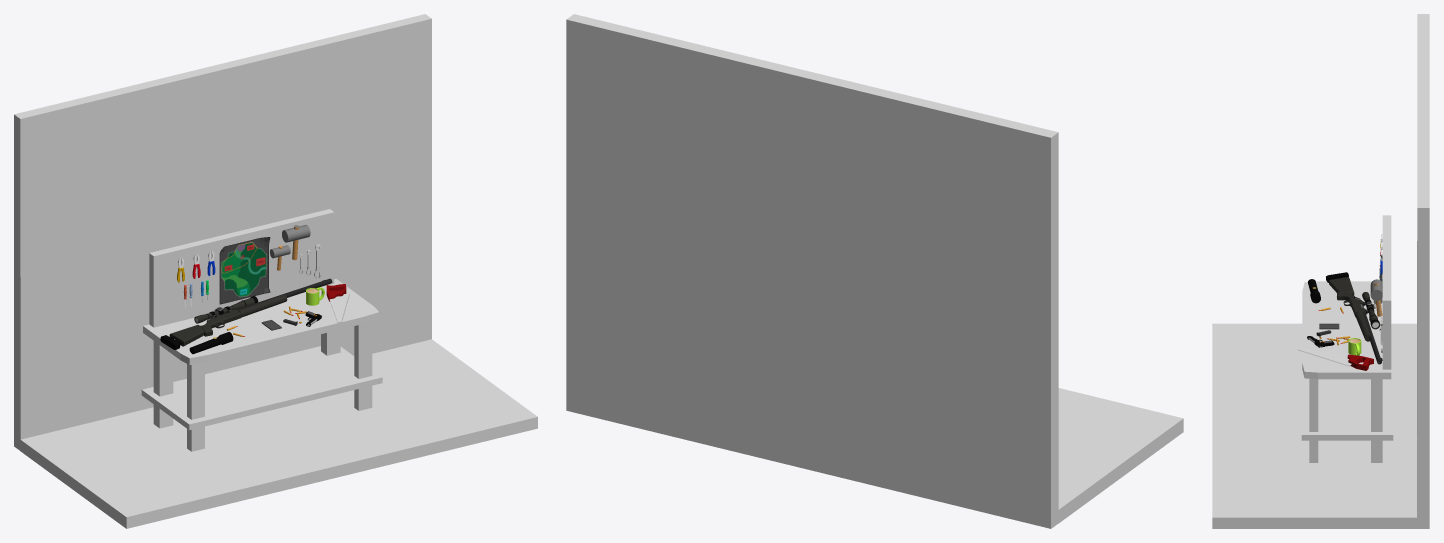
The model's file is workbench 3d praktek (2).fbx.
3 views of the same model, side by side, from view 1: azimuth 30°, elevation 25°; view 2: azimuth 150°, elevation 25°; view 3: azimuth 270°, elevation 25° (orthographic). The views are drawn at different scales.
Parts seen in each view (by area): view 1: Plane.001, Plane.002, Cube.001, Plane, M24, Cube.003; view 2: Plane.001, Plane.002; view 3: Plane.002, Cube.001, Plane.001, M24, Cube.003, Cylinder.004.
Boxes of the visible parts, <box> form: Plane.001: <box>14,14,431,450</box>; Plane.002: <box>20,339,537,528</box>; Cube.001: <box>141,209,382,451</box>; Plane: <box>219,237,270,304</box>; M24: <box>160,278,332,349</box>; Cube.003: <box>326,284,349,322</box>; Plane.001: <box>566,14,1058,528</box>; Plane.002: <box>1058,388,1183,523</box>; Plane.002: <box>1212,323,1416,528</box>; Cube.001: <box>1301,215,1393,462</box>; Plane.001: <box>1417,14,1429,528</box>; M24: <box>1326,272,1382,364</box>; Cube.003: <box>1298,348,1373,370</box>; Cylinder.004: <box>1370,279,1382,316</box>.
Size of the model in its own units: 614 by 474 by 291.
Materials: 59 (2 with a texture image).
